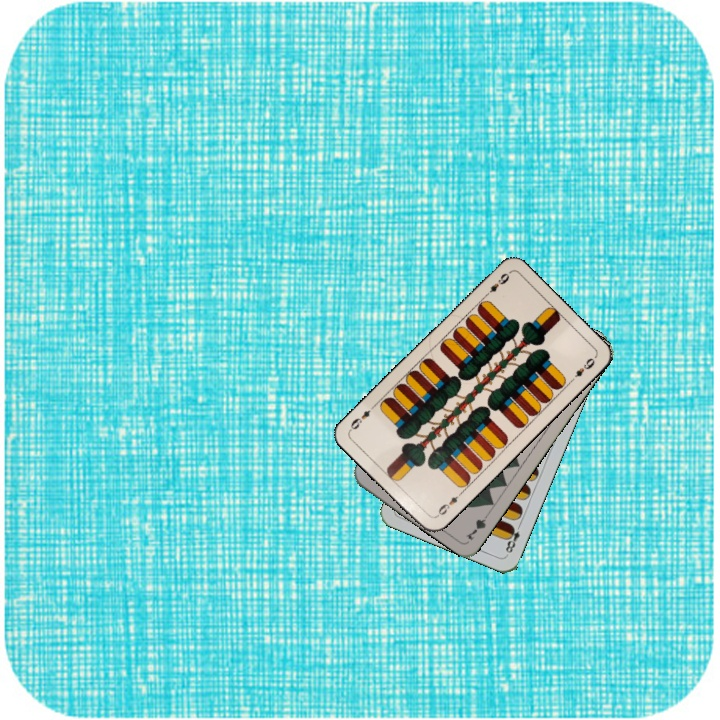E8: (501, 519, 524, 558)
E9: (432, 488, 465, 520), (480, 269, 512, 300)
G7: (462, 507, 493, 543)
